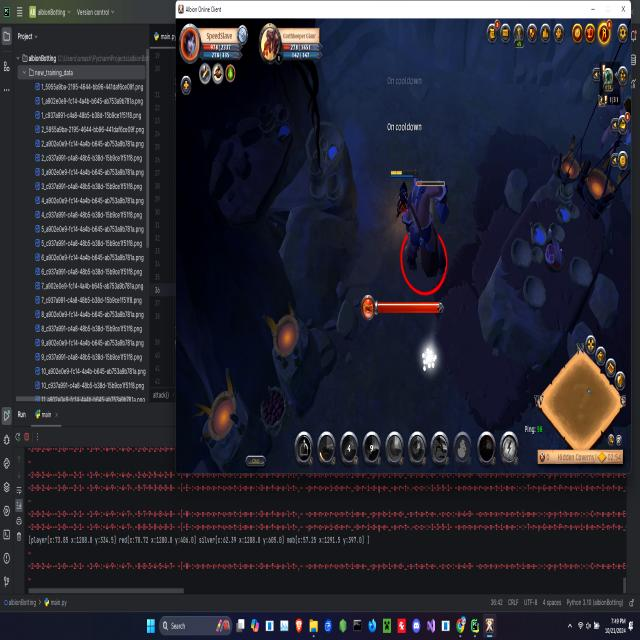ore: (398, 173, 450, 298), (598, 96, 633, 156)
red: (388, 162, 421, 230)
stone: (417, 343, 440, 376)
